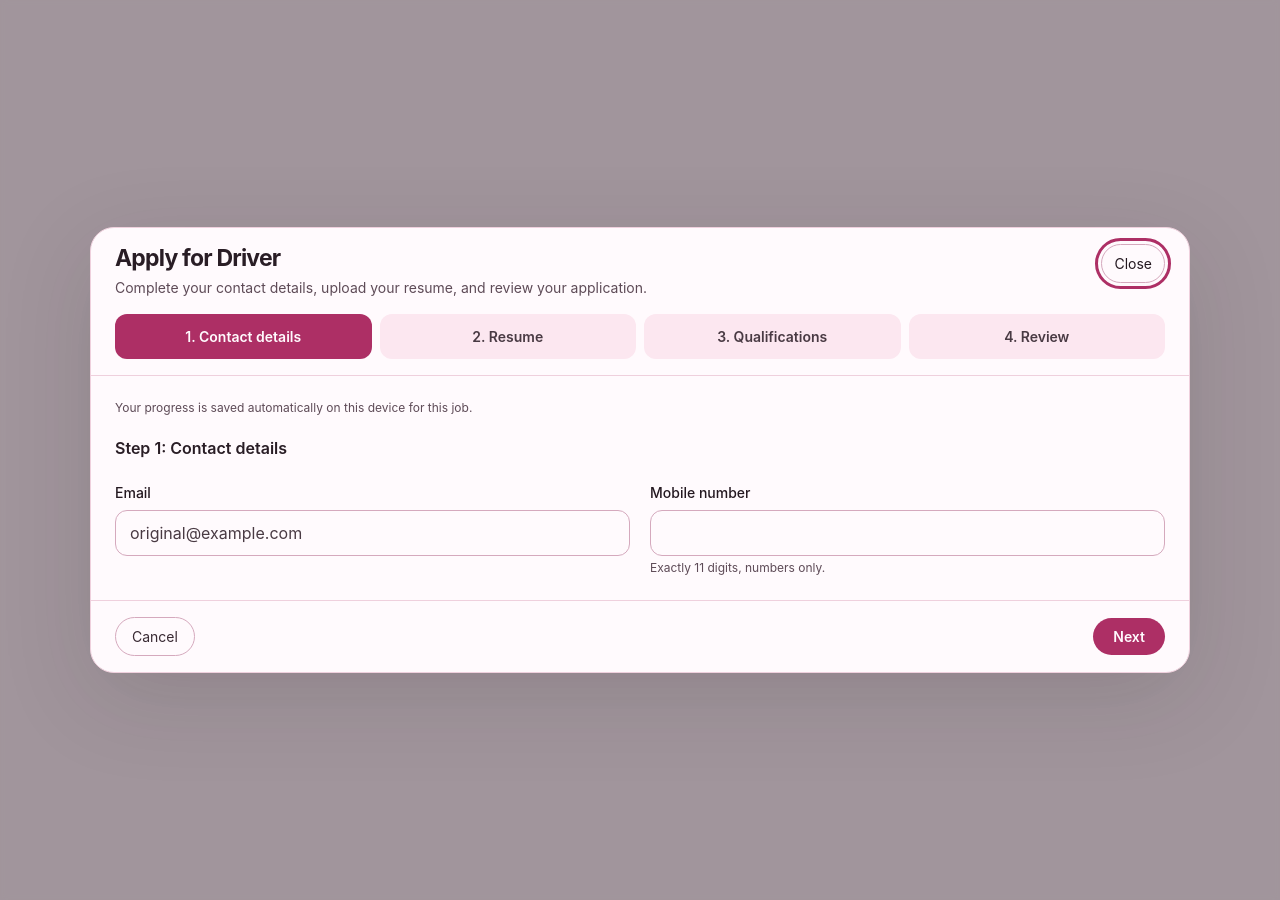
Test: application draft persistence › keeps a previously chosen application resume ahead of the profile default
Expected: the button "Next" is enabled, [1093,618,1165,655]
Type "09171234567" into the field labelled "Mobile number" at (908, 533), box [650,510,1165,556]
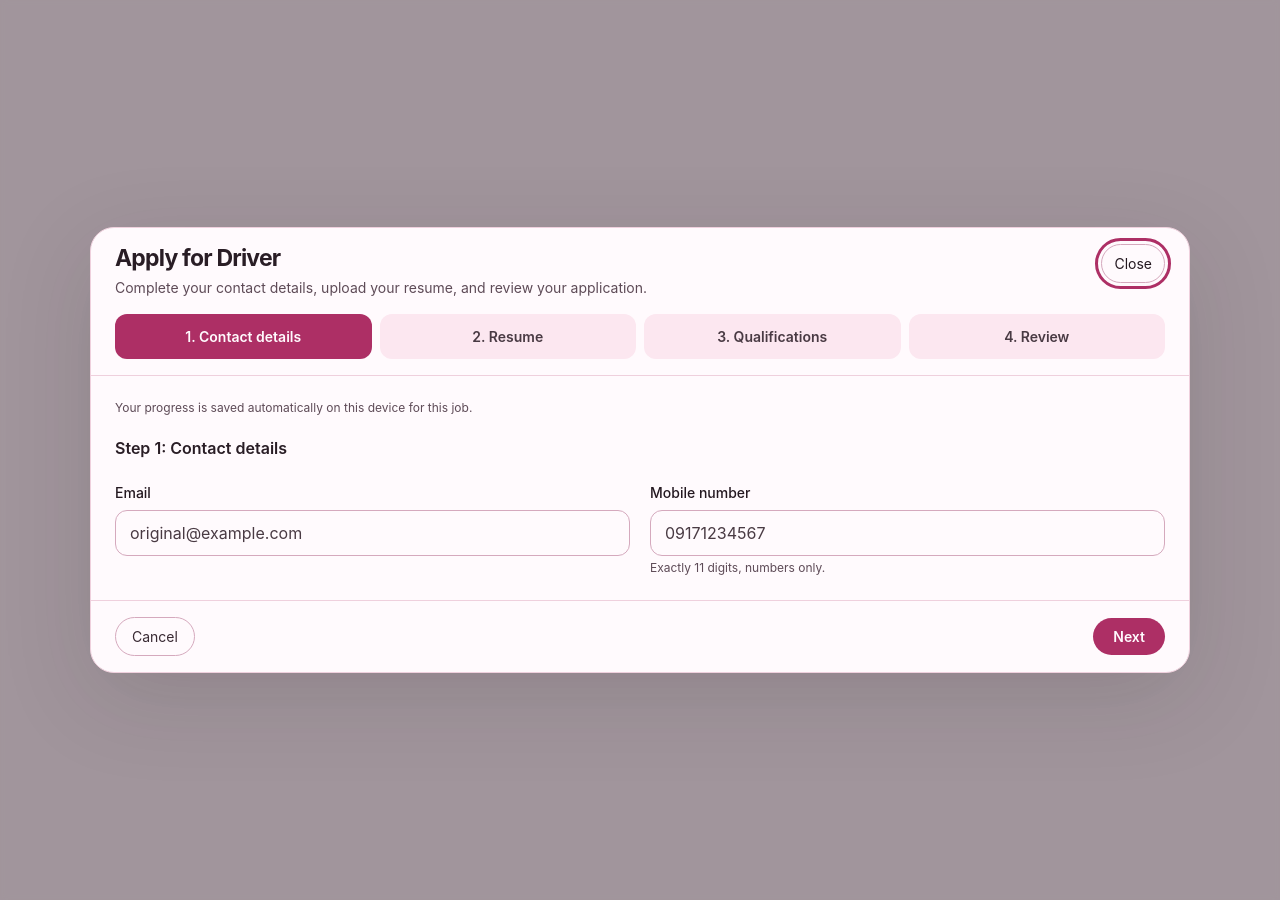
Click the button "Next" at (1129, 637), box [1093,618,1165,655]
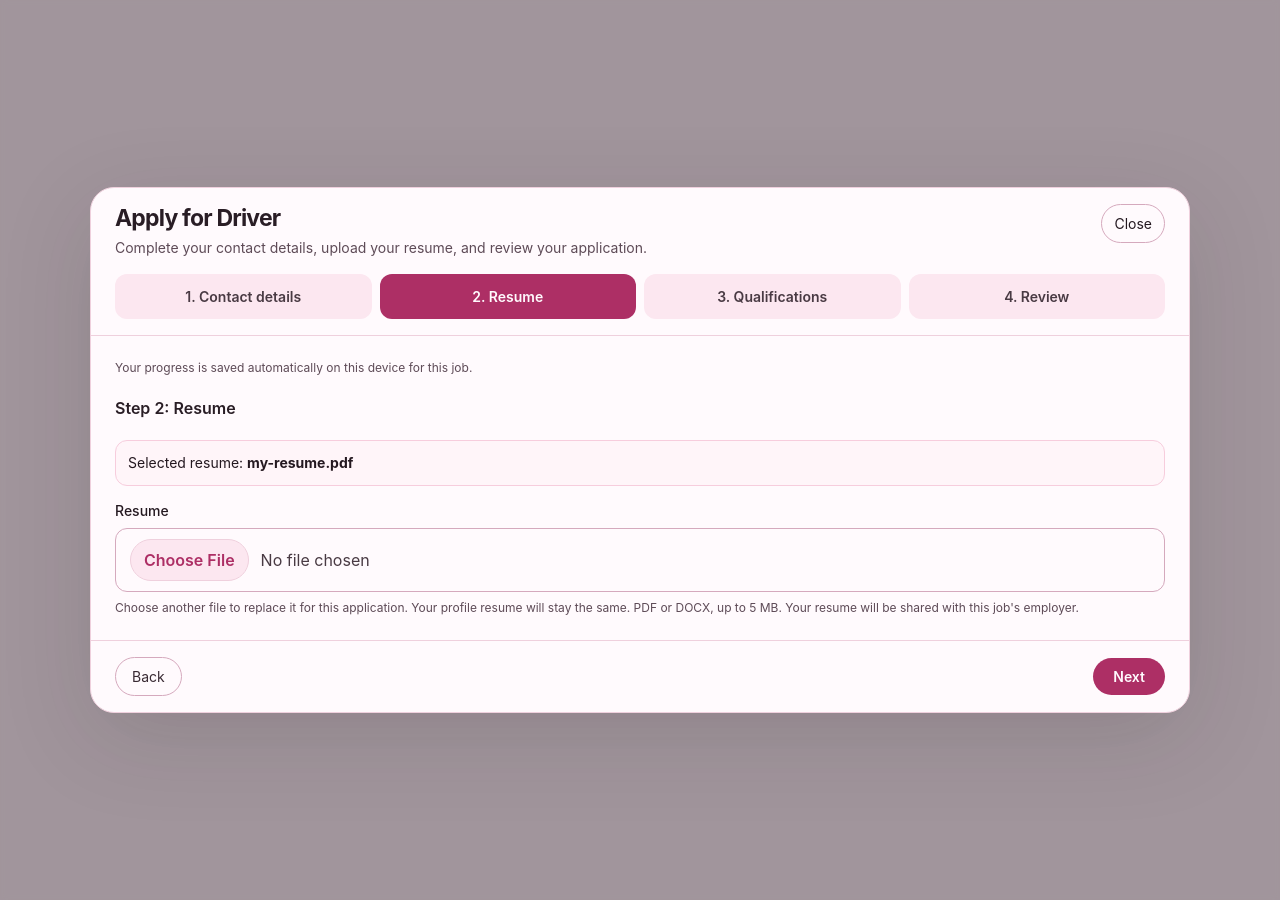
Expected: the text "my-resume.pdf" is shown, [247,454,353,470]
